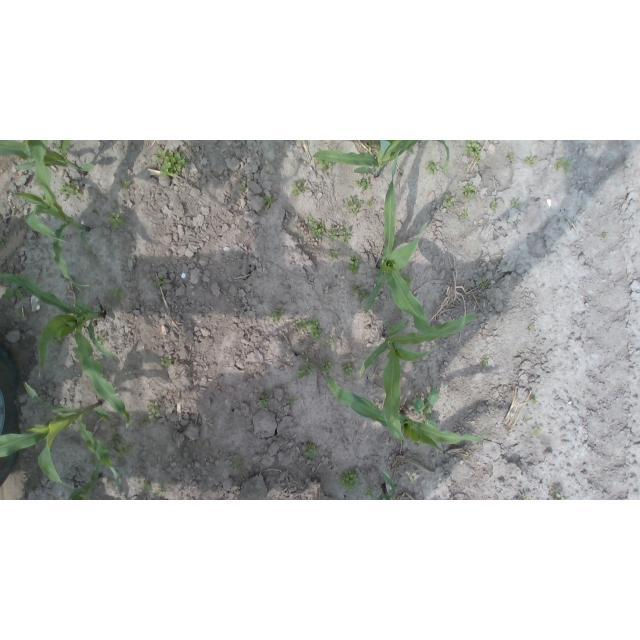Maize: (1, 268, 132, 429), (360, 310, 482, 445), (365, 148, 448, 342), (321, 367, 488, 456), (0, 381, 122, 491), (11, 140, 92, 290), (312, 140, 451, 176), (1, 141, 96, 176), (67, 460, 104, 500), (376, 467, 397, 500)
Weeds: (413, 387, 438, 429), (155, 149, 187, 179), (295, 316, 325, 340), (4, 273, 26, 299), (339, 469, 360, 493), (308, 212, 327, 238), (59, 182, 83, 199), (463, 140, 481, 162), (298, 358, 315, 378), (345, 196, 363, 214), (351, 284, 370, 301), (347, 256, 362, 275), (147, 401, 161, 421), (108, 212, 124, 229), (460, 182, 476, 199), (117, 443, 132, 460), (555, 159, 572, 174), (315, 158, 333, 172), (292, 180, 308, 195), (549, 485, 565, 500), (356, 178, 373, 192), (305, 442, 319, 459), (339, 227, 351, 245), (341, 363, 355, 378), (367, 140, 382, 154), (110, 434, 123, 449), (161, 355, 176, 368), (270, 310, 285, 323), (427, 161, 442, 174), (444, 194, 456, 209), (111, 286, 125, 298), (524, 155, 536, 168), (402, 274, 413, 288), (327, 227, 337, 242), (322, 361, 334, 373), (53, 337, 66, 348), (363, 487, 376, 498), (56, 141, 64, 158), (97, 331, 106, 346), (258, 398, 270, 409), (120, 179, 131, 190), (157, 275, 167, 287), (141, 481, 151, 492), (328, 249, 338, 260), (262, 196, 274, 205), (530, 427, 542, 436), (519, 493, 534, 500), (233, 460, 243, 470), (286, 396, 297, 405), (477, 280, 488, 289), (531, 392, 539, 404), (258, 390, 270, 398), (489, 198, 497, 210), (139, 418, 149, 427), (155, 488, 164, 497), (481, 359, 490, 368), (512, 200, 521, 209), (238, 183, 246, 193), (38, 194, 46, 203), (16, 309, 24, 318), (462, 209, 469, 218), (88, 457, 96, 464), (326, 338, 334, 345), (509, 154, 515, 163), (387, 323, 394, 330), (367, 198, 373, 206), (603, 232, 609, 238), (93, 259, 99, 264), (528, 326, 532, 333), (525, 417, 532, 421)
